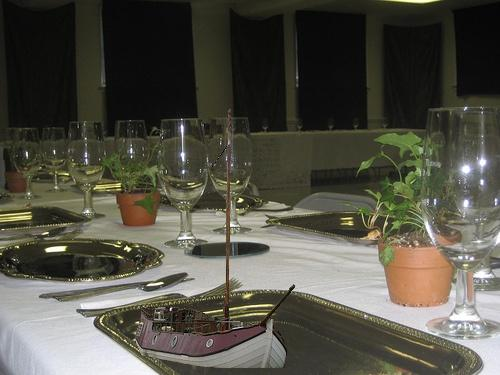tampered: (135, 110, 295, 368)
